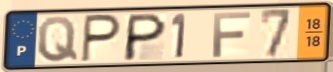1: (170, 12, 187, 60)
7: (259, 7, 293, 61)
F: (211, 10, 253, 59)
P: (121, 11, 169, 62), (79, 12, 124, 64)
Q: (36, 15, 80, 64)
